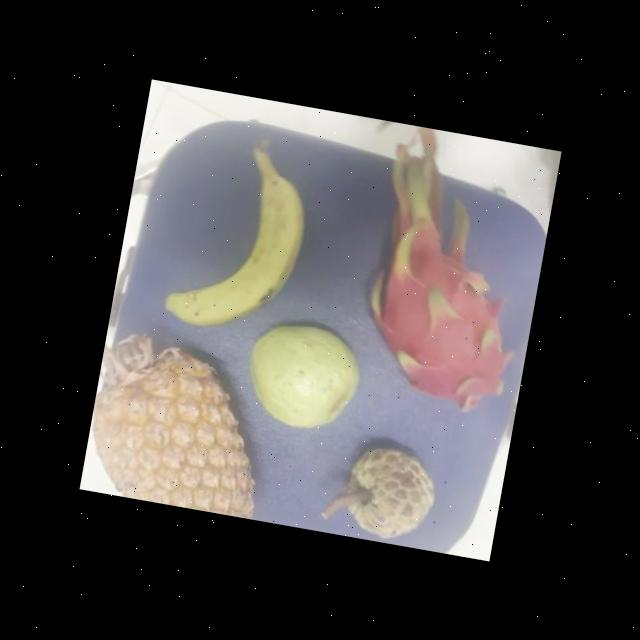Sakya fruit: (332, 436, 445, 546)
banana: (166, 158, 315, 338)
guava: (240, 320, 369, 436)
pineapple: (86, 332, 274, 518)
pitaya: (353, 198, 538, 413)
